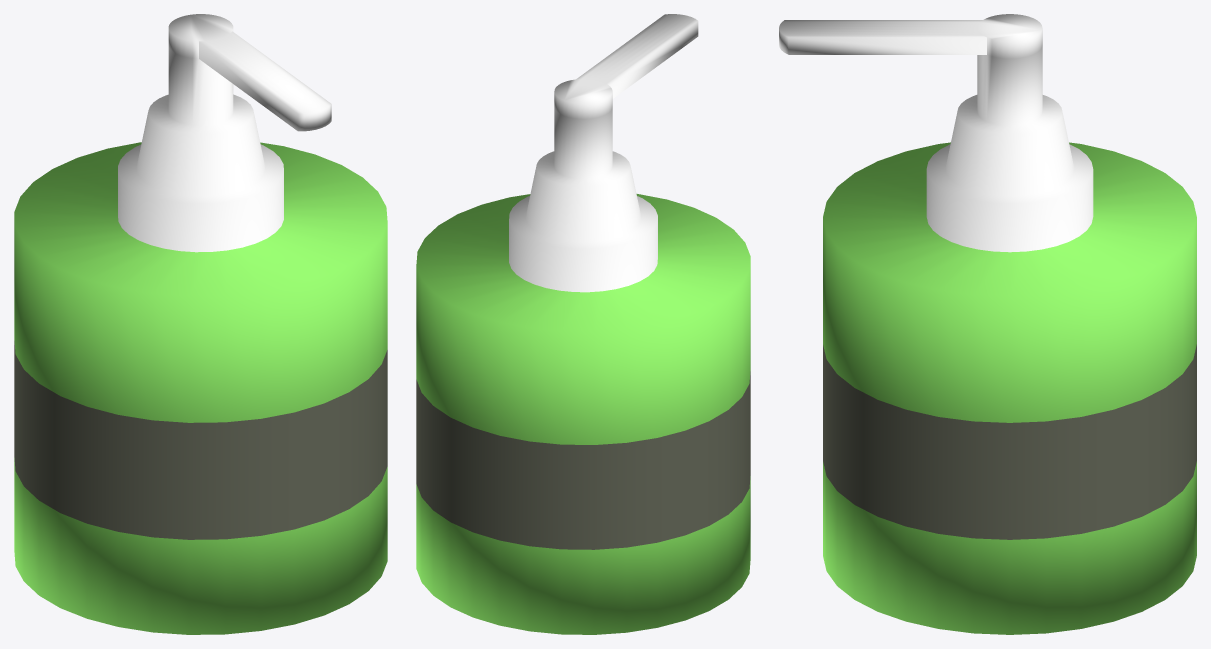
File: Sanitizer.fbx
The picture shows the model from 3 angles, left to right: view 1: azimuth 30°, elevation 25°; view 2: azimuth 150°, elevation 25°; view 3: azimuth 270°, elevation 25°; orthographic projection. The views are drawn at different scales.
Visible parts, largest first — view 1: Cylinder; view 2: Cylinder; view 3: Cylinder.
Part boxes in pixels (<box>): Cylinder: <box>14,14,387,634</box>; Cylinder: <box>416,14,750,634</box>; Cylinder: <box>779,14,1196,634</box>.
Size of the model in its own units: 200 by 312 by 223.
